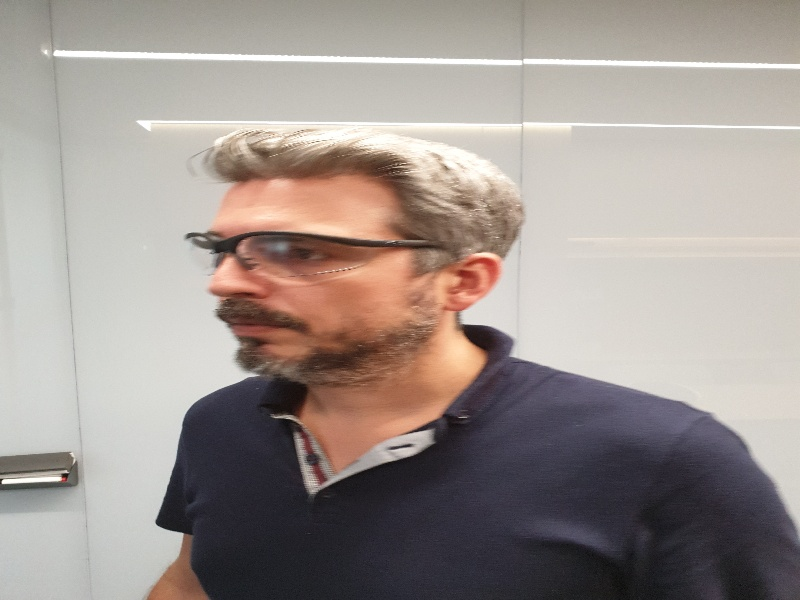Gozluk: (184, 231, 439, 284)
